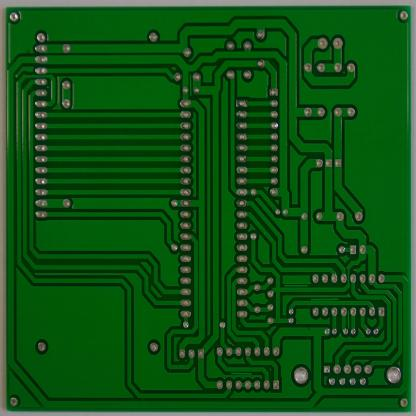spurious_copper: (308, 295, 341, 304), (228, 369, 256, 378), (281, 282, 309, 289), (187, 71, 194, 97), (346, 307, 352, 330)
